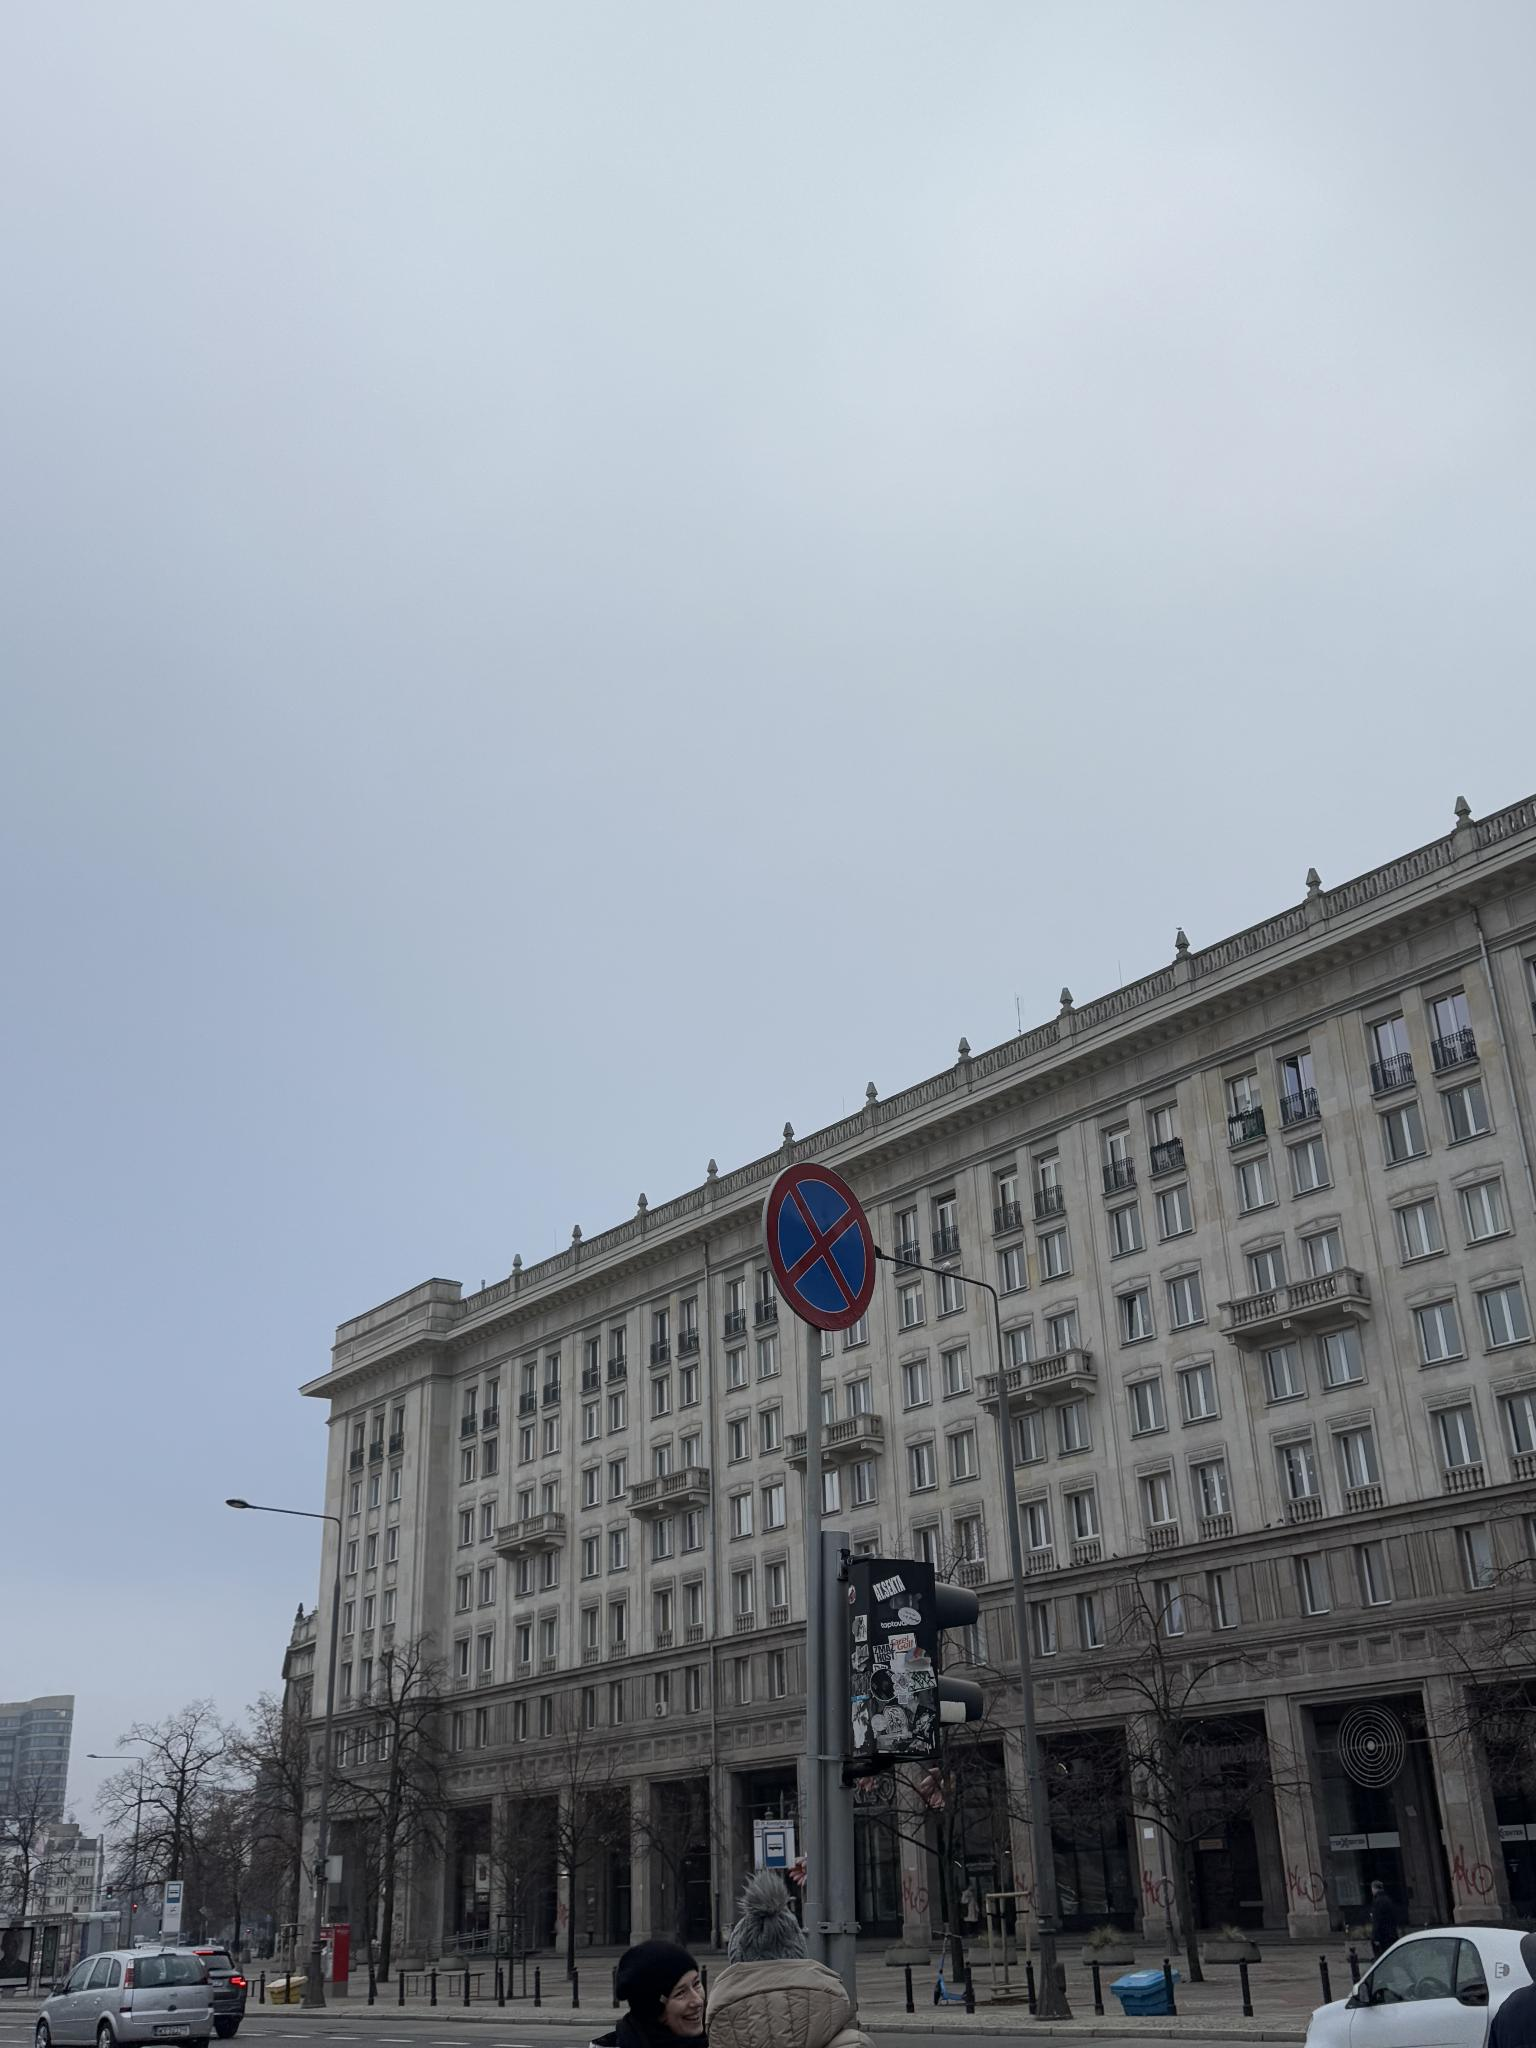information: (765, 1830, 787, 1867), (168, 1885, 181, 1903)
prohibitory: (762, 1159, 876, 1332)
